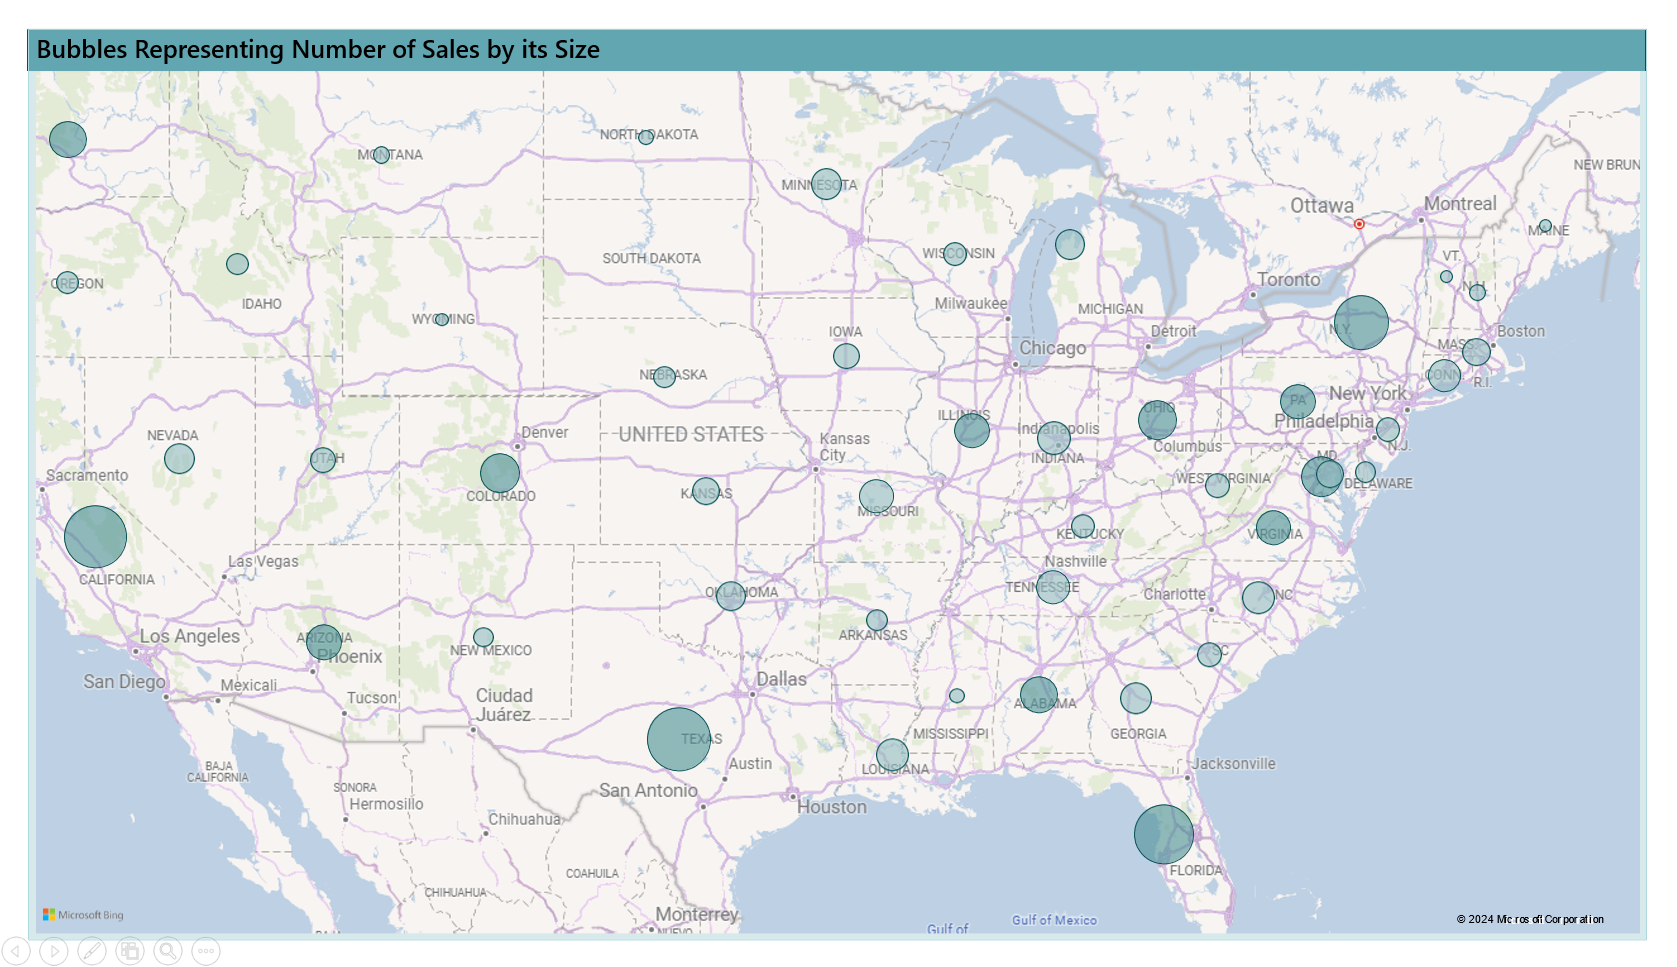

Layout of this report page (visuals, bound fields, positions):
{"tool":"powerbi","page":{"name":"Map","canvas":[1280,720],"ordinal":1},"visuals":[{"type":"map","title":"Bubbles Representing Number of Sales by its Size","fields":{"Category":["CarSupplyChainManagement DataSe.State"],"Size":["CountNonNull(CarSupplyChainManagement DataSe.OrderID)"]},"box":[0,0,1280,720.3],"z":0}]}

Visuals, with their boxes on the page's 1280x720 design canvas (x1, y1, x2, y2). These are canvas units, not pixel positions in the 1677x967 screenshot, which may show the page scaled, cropped or inside an application window:
"Bubbles Representing Number of Sales by its Size" map: 0,0,1280,720
